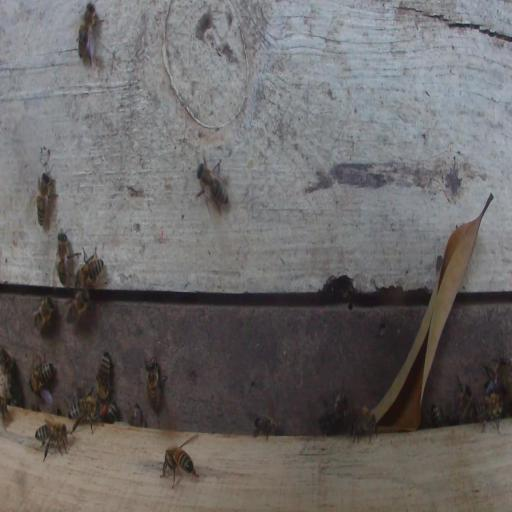nonpollenbee: (193, 158, 230, 212), (76, 2, 104, 67), (161, 446, 197, 488), (35, 168, 58, 229), (35, 420, 69, 461), (318, 390, 349, 432), (472, 394, 504, 434), (68, 394, 99, 432), (347, 406, 378, 443), (144, 356, 164, 413), (78, 246, 105, 286), (65, 285, 90, 326), (56, 229, 74, 285), (30, 357, 55, 396), (483, 359, 507, 396), (32, 295, 54, 334), (0, 346, 18, 392), (96, 351, 112, 401), (253, 414, 279, 440), (456, 377, 472, 417), (0, 389, 10, 430), (129, 402, 145, 427), (430, 404, 443, 427)
pollenbee: (101, 400, 118, 424)
